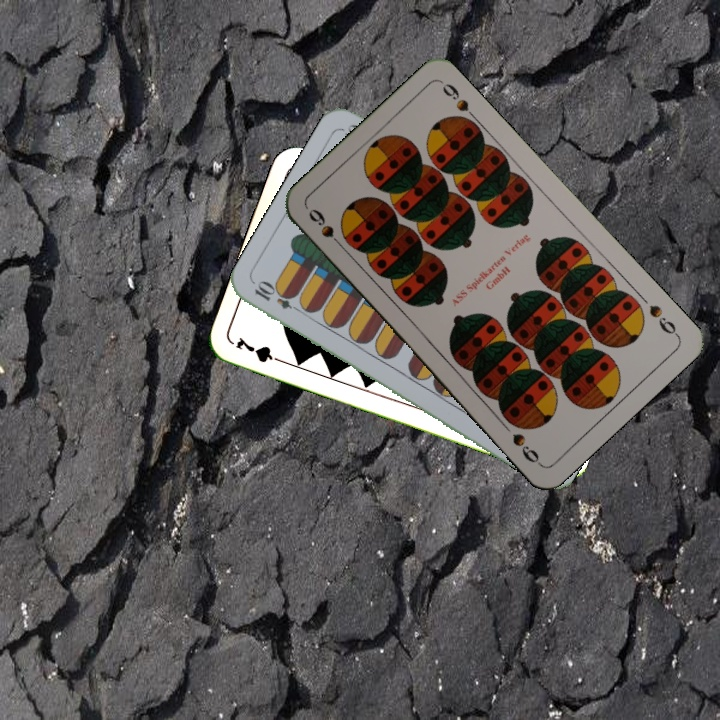E10: (250, 278, 306, 316)
G7: (232, 333, 289, 367)
S9: (304, 204, 348, 253), (644, 301, 681, 339)
